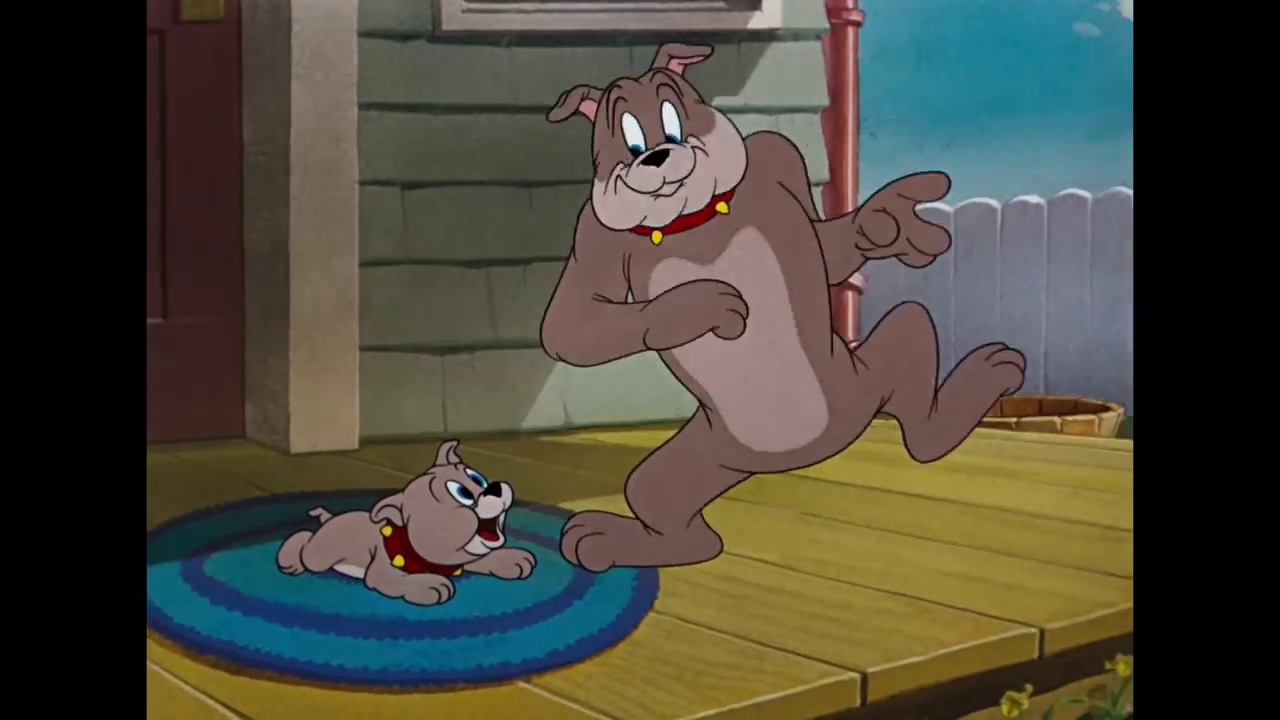spike: (541, 39, 746, 235)
